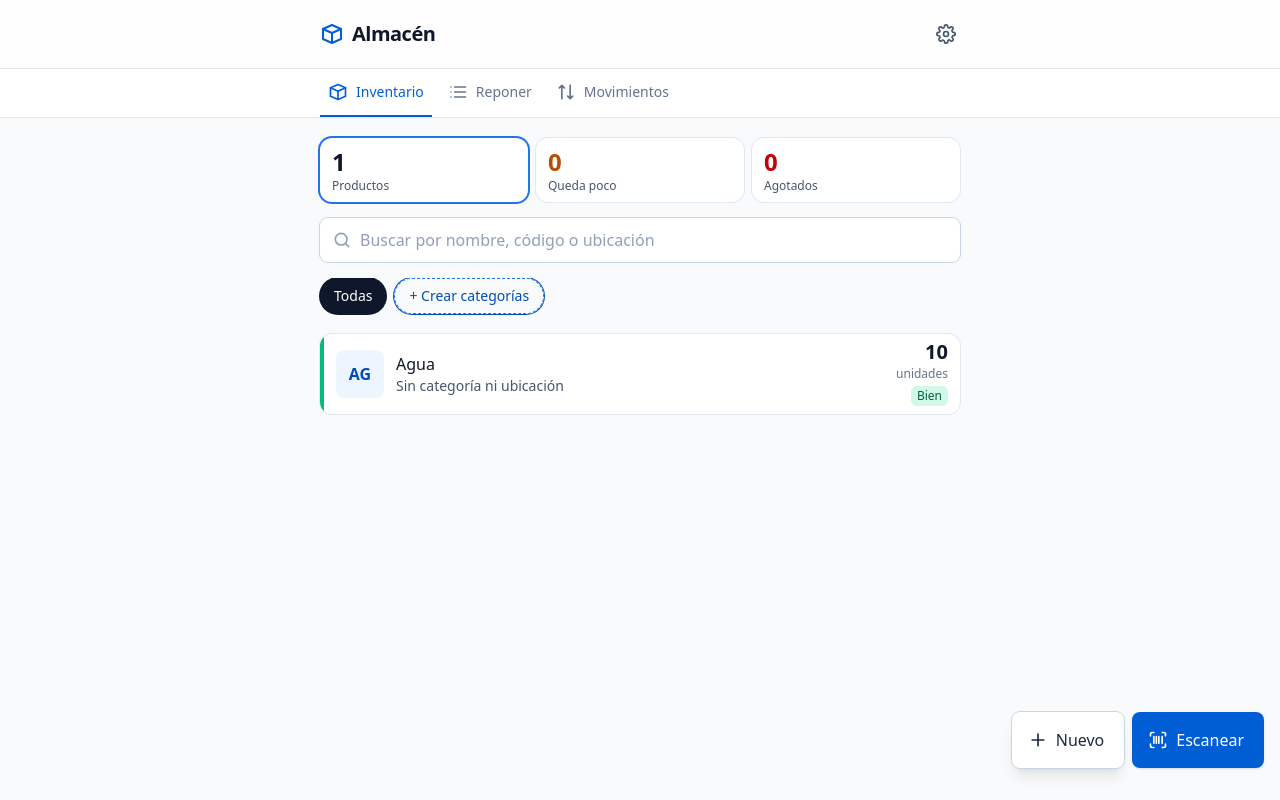
Test: MainScreen › groups quick +/- taps into one movement
This screenshot has width=1280, height=800.
Click the button "AG Agua Sin categoría ni ubicación 10 unidades Bien".
click(360, 374)  # box 320,334 -> 960,414
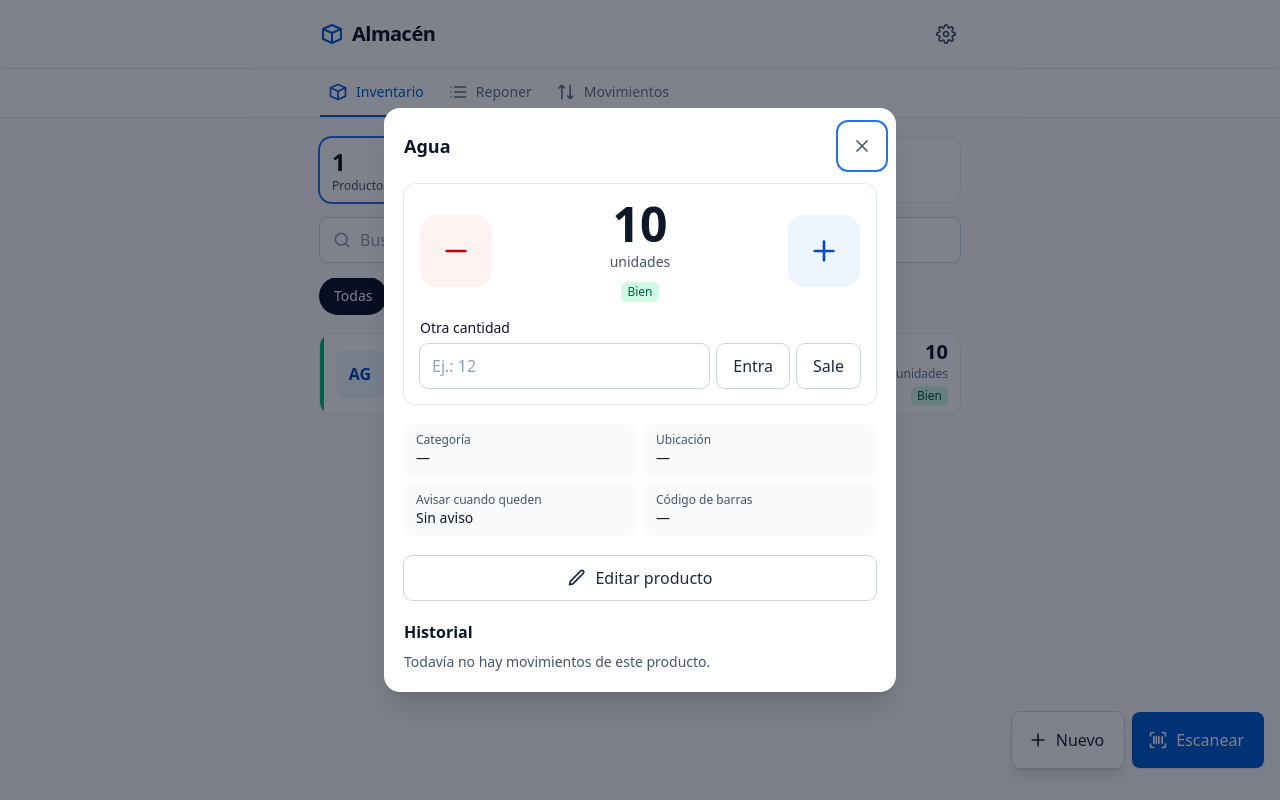
Click the 3rd button named "Añadir uno".
click(824, 251)  # box 788,215 -> 860,287
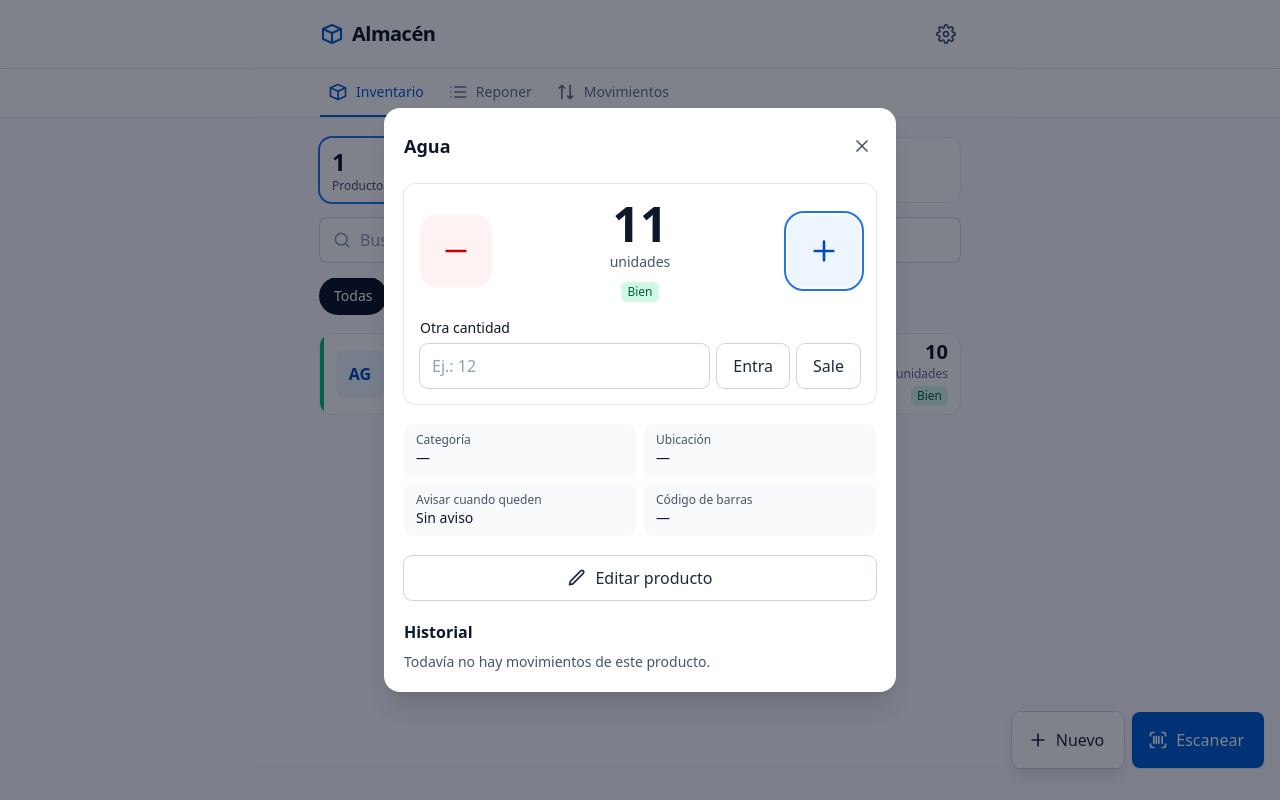
Click the 3rd button named "Añadir uno".
click(824, 251)  # box 788,215 -> 860,287
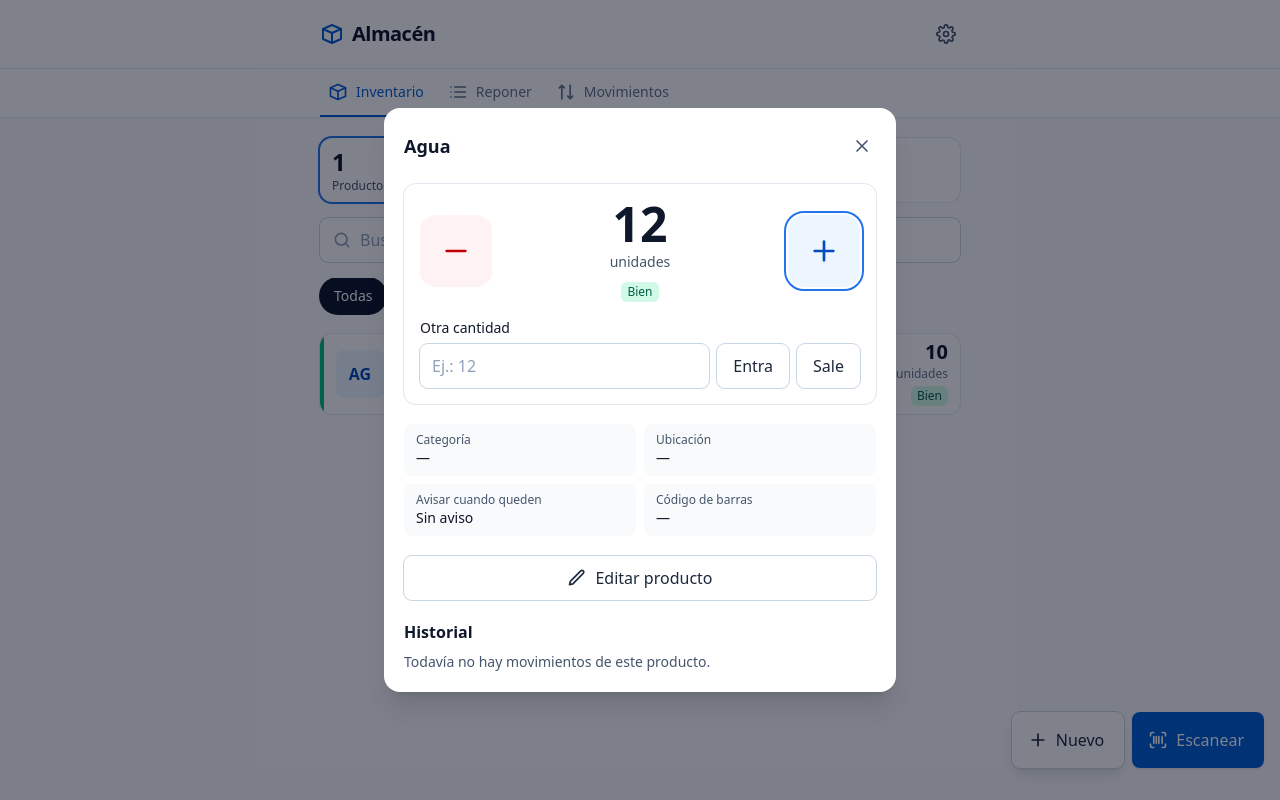
Click the 3rd button named "Añadir uno".
click(824, 251)  # box 788,215 -> 860,287
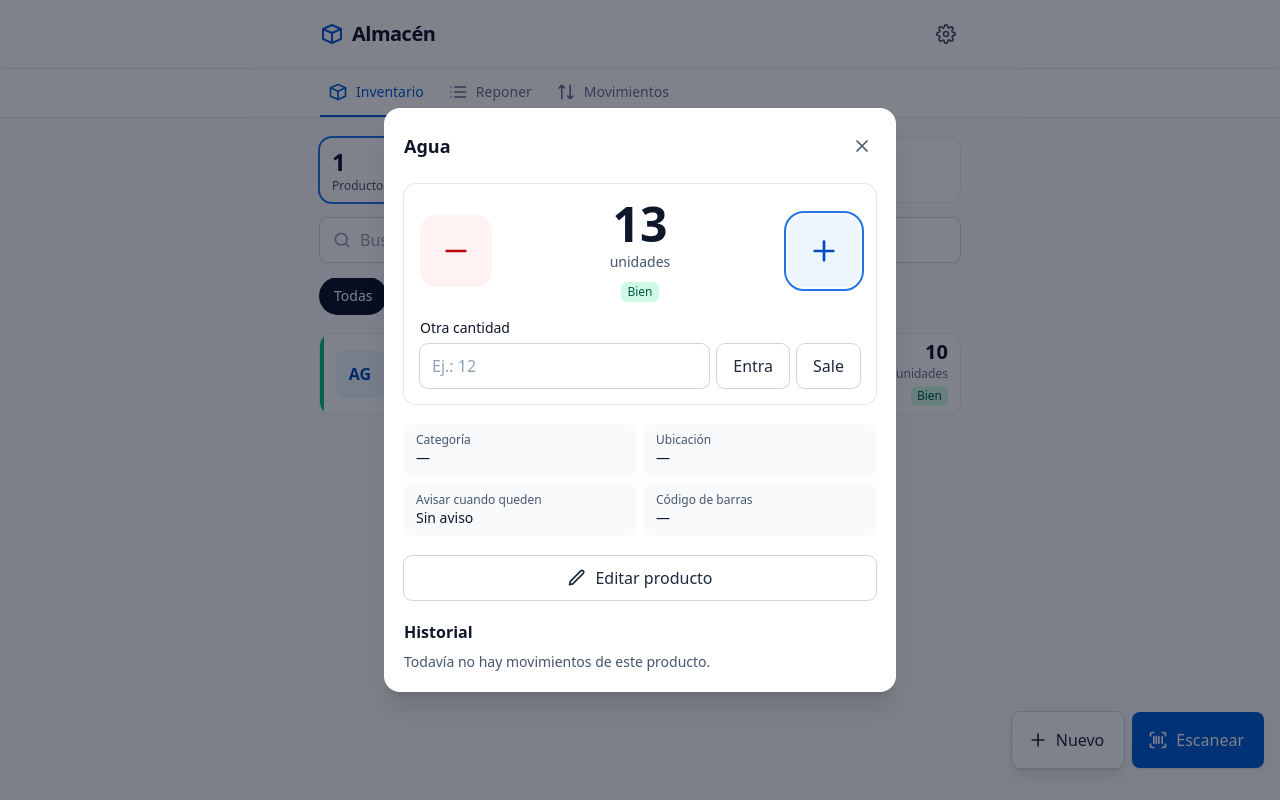
Click the 2nd button named "Quitar uno".
click(456, 251)  # box 420,215 -> 492,287
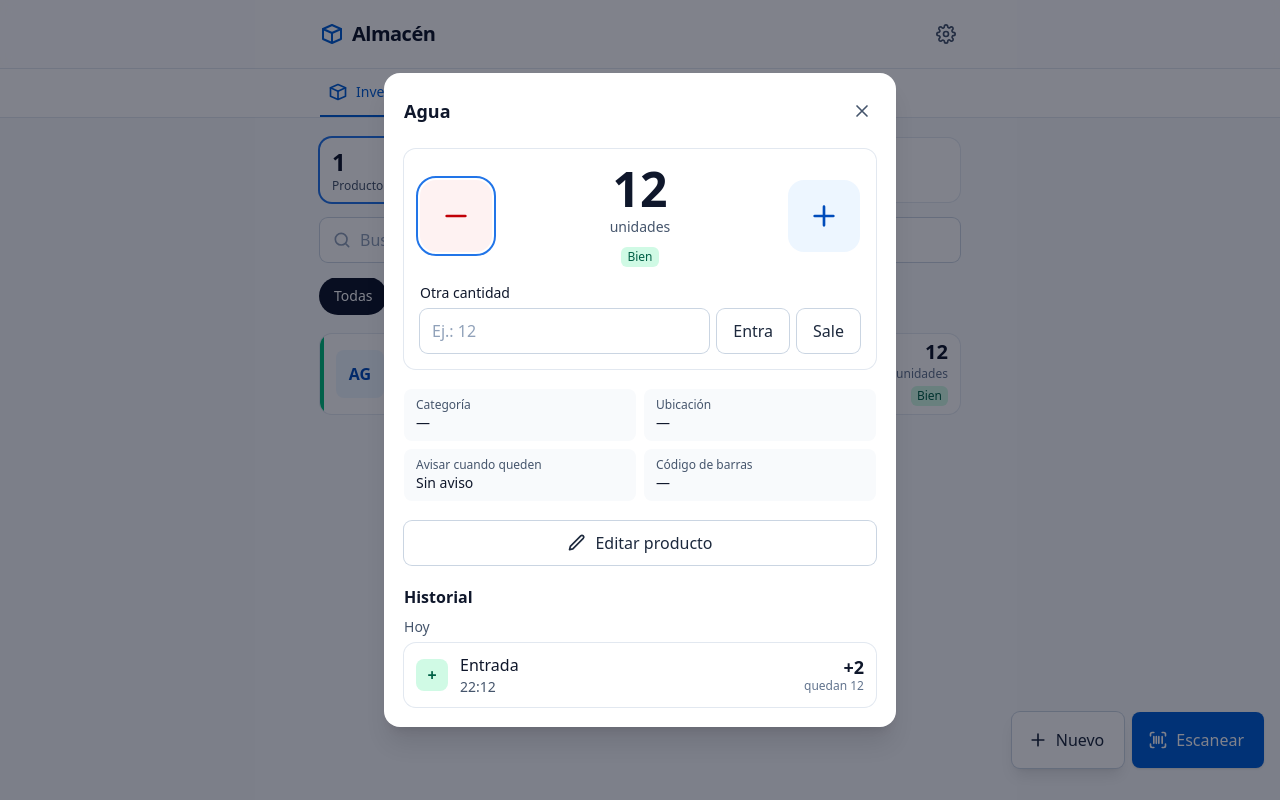
Result: the text with test id "stock-quantity" reads "12" at 612,156 -> 667,221
